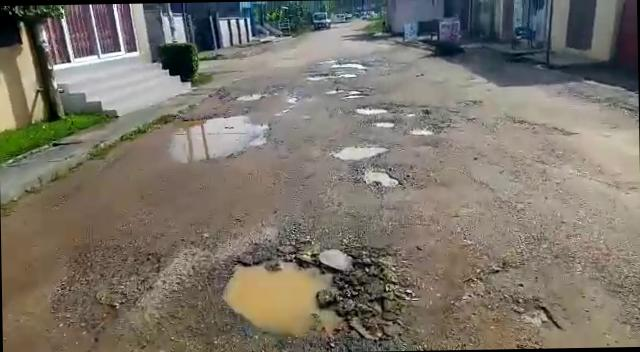pothole: (216, 247, 402, 348), (128, 118, 272, 162), (356, 163, 404, 189), (333, 141, 388, 161), (306, 70, 359, 80), (354, 103, 396, 114), (331, 59, 373, 70), (333, 89, 374, 99), (406, 124, 440, 136), (370, 120, 398, 128)
